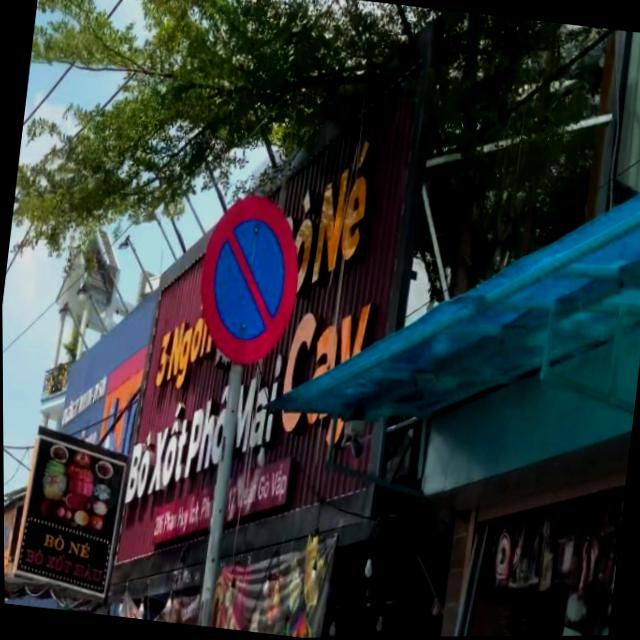Cam do xe: (190, 190, 307, 370)
